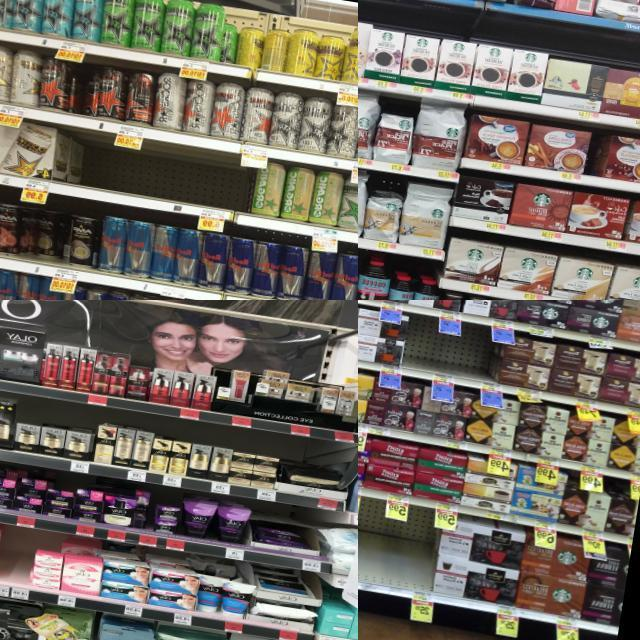Imprecise: (18, 202, 75, 266), (66, 61, 101, 118), (27, 606, 89, 638)
